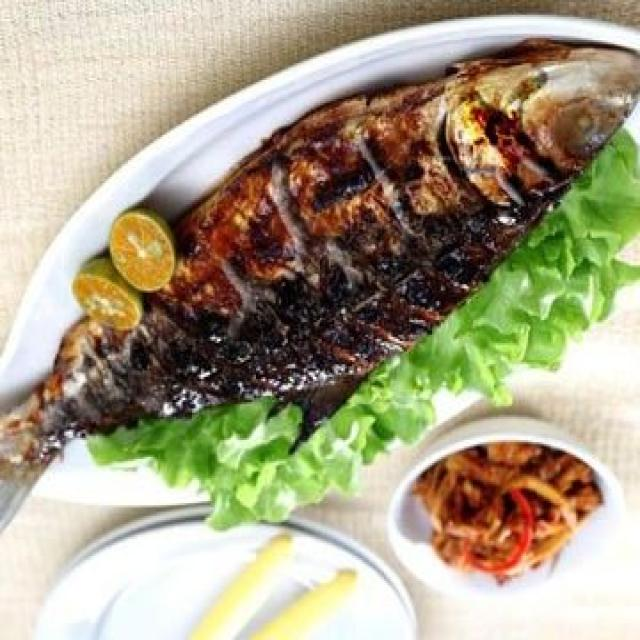ikan bakar: (0, 40, 640, 533)
